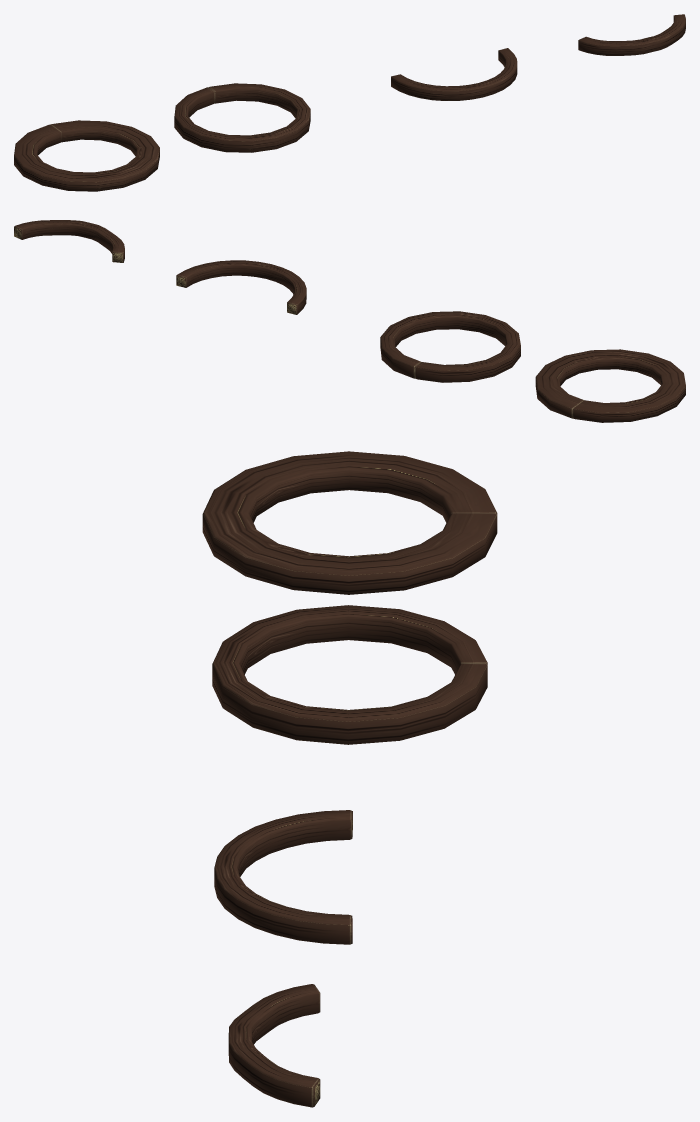
The model's file is Beam_Lar.fbx.
The picture shows the model from 3 angles, top to bottom: view 1: azimuth 30°, elevation 25°; view 2: azimuth 150°, elevation 25°; view 3: azimuth 270°, elevation 25°; orthographic projection. The views are drawn at different scales.
Parts seen in each view (by area): view 1: Beam1_90cm.005, Beam1_90cm.002, Beam1_90cm.001, Beam1_90cm.004; view 2: Beam1_90cm.005, Beam1_90cm.002, Beam1_90cm.001, Beam1_90cm.004; view 3: Beam1_90cm.005, Beam1_90cm.002, Beam1_90cm.001, Beam1_90cm.004.
Boxes of the visible parts, <box> form: Beam1_90cm.005: <box>14,120,159,191</box>; Beam1_90cm.002: <box>174,83,310,152</box>; Beam1_90cm.001: <box>391,48,517,100</box>; Beam1_90cm.004: <box>578,14,685,55</box>; Beam1_90cm.005: <box>535,349,685,422</box>; Beam1_90cm.002: <box>380,311,520,382</box>; Beam1_90cm.001: <box>176,260,306,314</box>; Beam1_90cm.004: <box>14,220,124,262</box>; Beam1_90cm.005: <box>202,451,497,594</box>; Beam1_90cm.002: <box>212,605,487,744</box>; Beam1_90cm.001: <box>214,810,352,944</box>; Beam1_90cm.004: <box>228,984,320,1107</box>.
Size of the model in its own units: 893 by 16.11 by 175.
